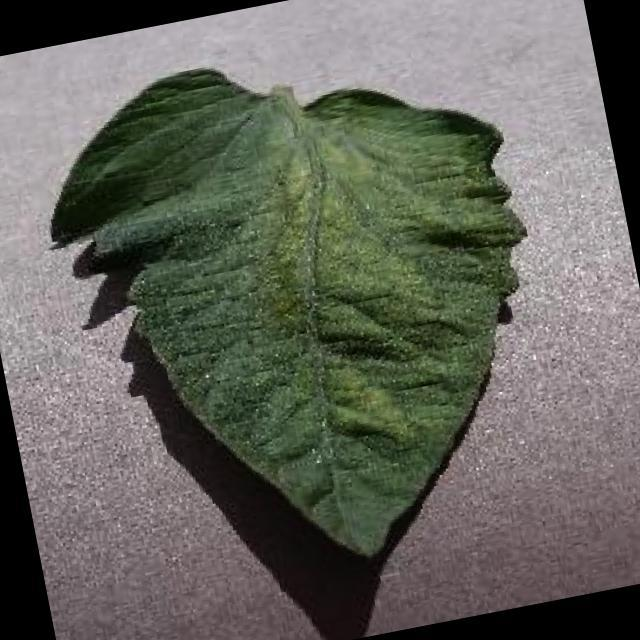Tomato spider mites leaf: (24, 9, 582, 604)
